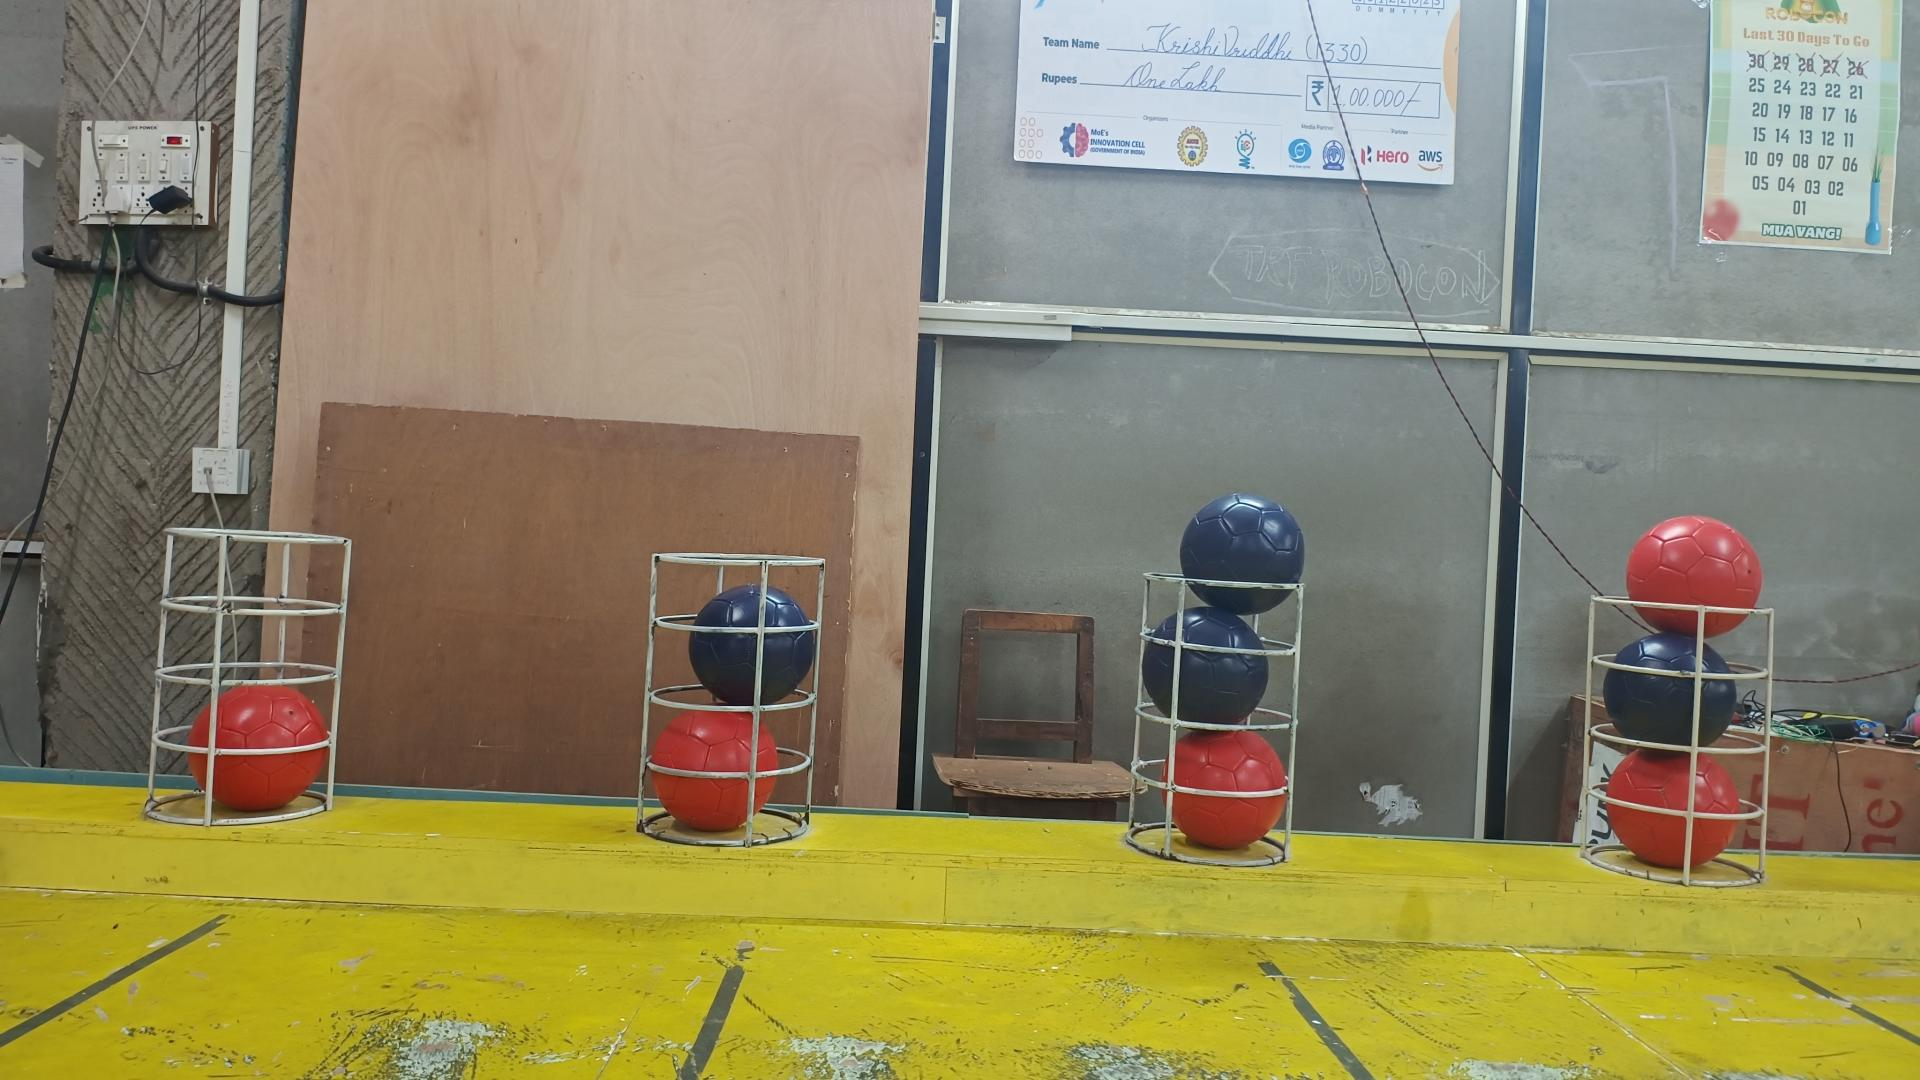dhoka: (690, 585, 818, 705), (1178, 495, 1305, 615), (1601, 634, 1737, 746), (1139, 608, 1267, 724)
laale: (187, 683, 330, 810), (1623, 514, 1763, 637), (649, 708, 781, 832), (1605, 750, 1741, 870), (1163, 732, 1286, 848)
